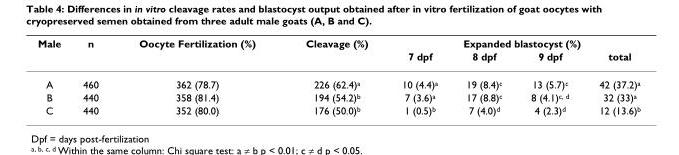table: (37, 36, 639, 115)
table column: (118, 36, 279, 115), (279, 36, 384, 115), (515, 36, 583, 115), (384, 36, 451, 115), (451, 36, 515, 115), (583, 36, 639, 115), (71, 36, 118, 115), (37, 36, 71, 115)
table column header: (37, 36, 639, 69)
table row: (37, 69, 639, 90), (37, 49, 639, 69), (37, 36, 639, 49), (37, 90, 639, 103), (37, 103, 639, 115)
table spanning cell: (118, 36, 279, 69), (279, 36, 384, 69), (384, 36, 639, 49), (71, 36, 118, 69), (37, 36, 71, 69)
